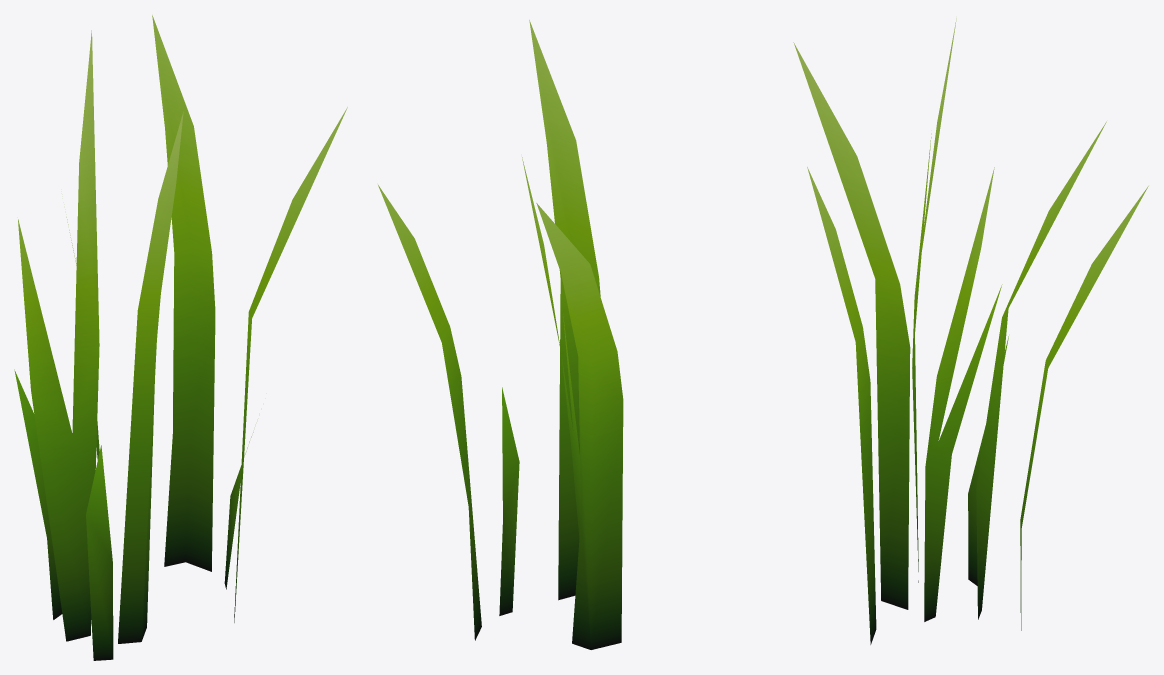
File: Grass1.glb
The picture shows the model from 3 angles, left to right: view 1: azimuth 30°, elevation 25°; view 2: azimuth 150°, elevation 25°; view 3: azimuth 270°, elevation 25°; orthographic projection. The views are drawn at different scales.
Parts seen in each view (by area): view 1: Grass_Common_Short; view 2: Grass_Common_Short; view 3: Grass_Common_Short.
Part boxes in pixels (x1=…): Grass_Common_Short: x1=14, y1=15, x2=347, y2=660; Grass_Common_Short: x1=378, y1=20, x2=623, y2=649; Grass_Common_Short: x1=793, y1=18, x2=1148, y2=644.
Bounding box in the file's own units: 0.6318 × 1.33 × 0.7373.
Materials: 1 (1 with a texture image).
